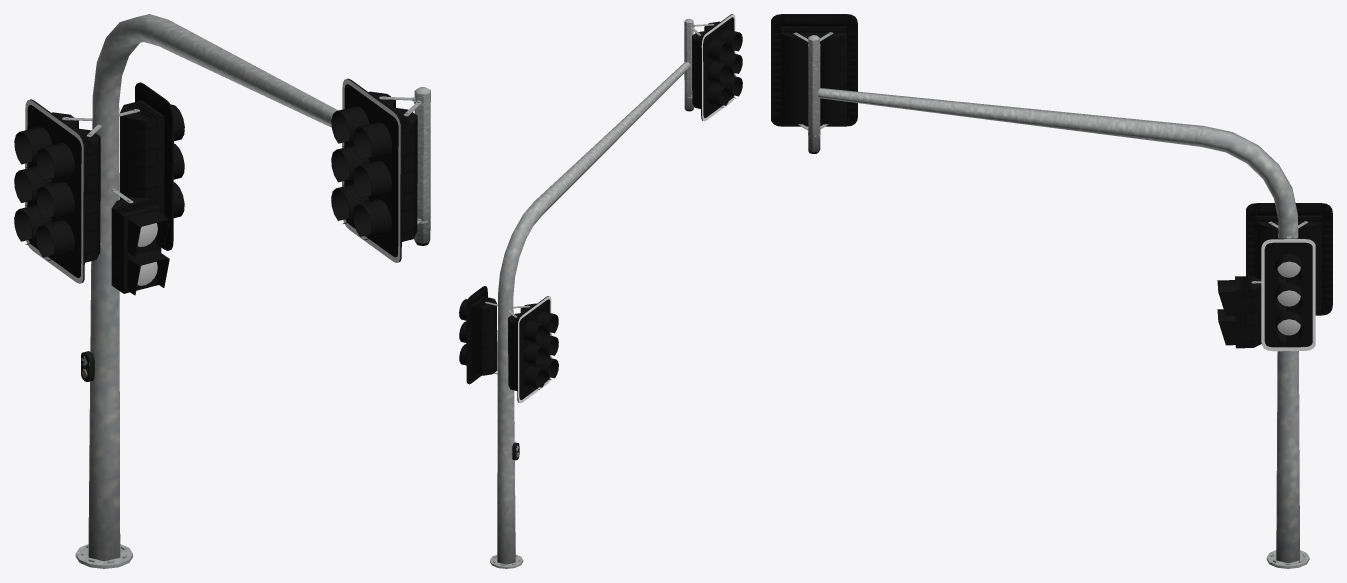
The model's file is TrafficLight04.fbx.
3 renders of one model, left to right at view 1: azimuth 30°, elevation 25°; view 2: azimuth 150°, elevation 25°; view 3: azimuth 270°, elevation 25°, orthographic. The views are drawn at different scales.
Parts seen in each view (by area): view 1: TrafficLight04; view 2: TrafficLight04; view 3: TrafficLight04.
Part boxes in pixels (box(x1,y1,x2,y2)): TrafficLight04: box(14, 14, 430, 568); TrafficLight04: box(459, 14, 742, 568); TrafficLight04: box(771, 14, 1332, 568).
Size of the model in its own units: 1.43 by 6.74 by 6.5.
